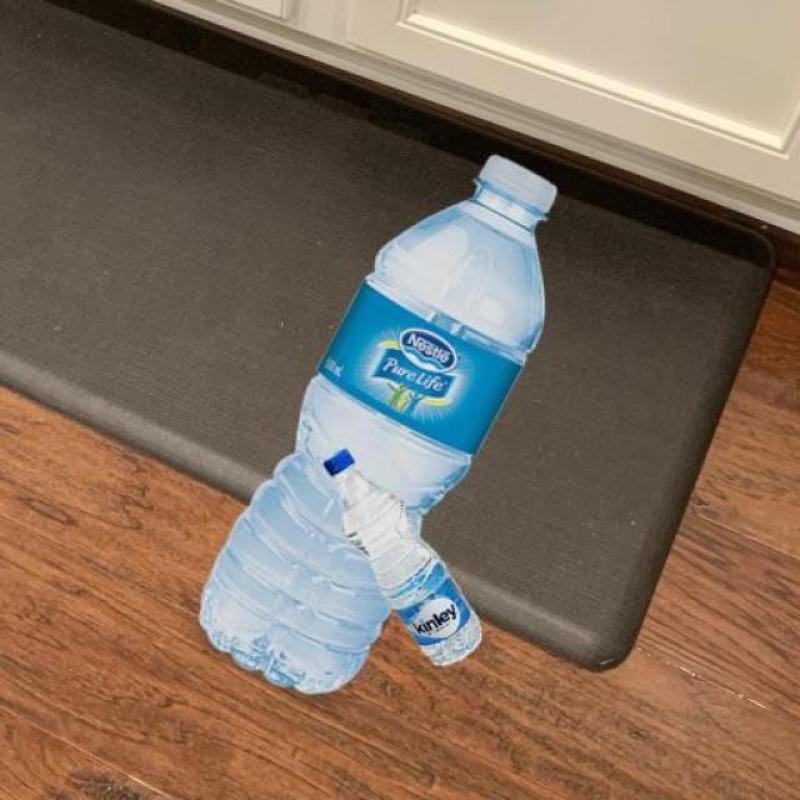botella: (197, 153, 563, 698), (320, 446, 486, 672)
